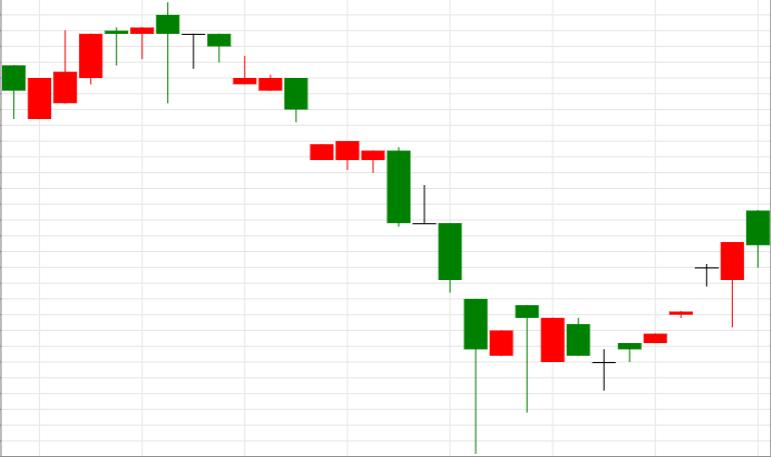hammer_rise: (284, 79, 487, 454)
